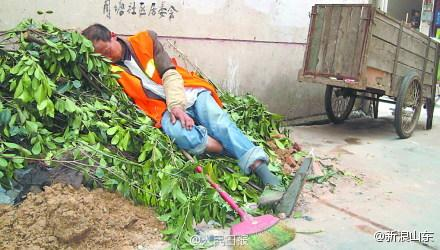fall: (68, 19, 289, 198)
